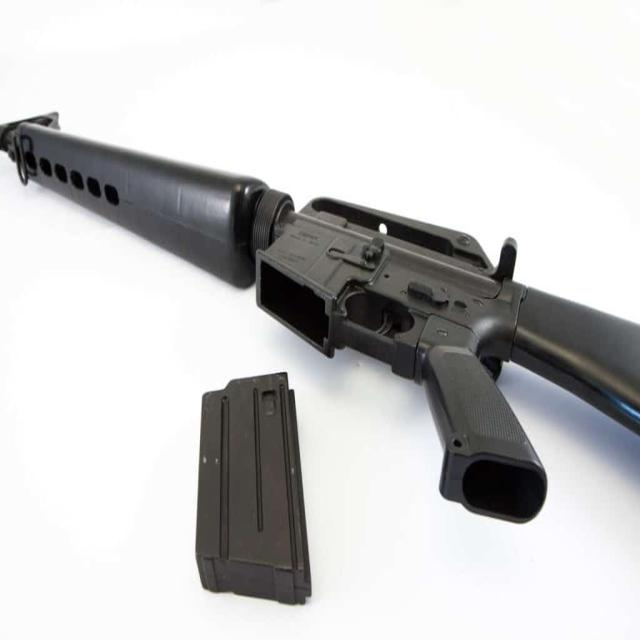Rifle: (0, 112, 640, 527)
